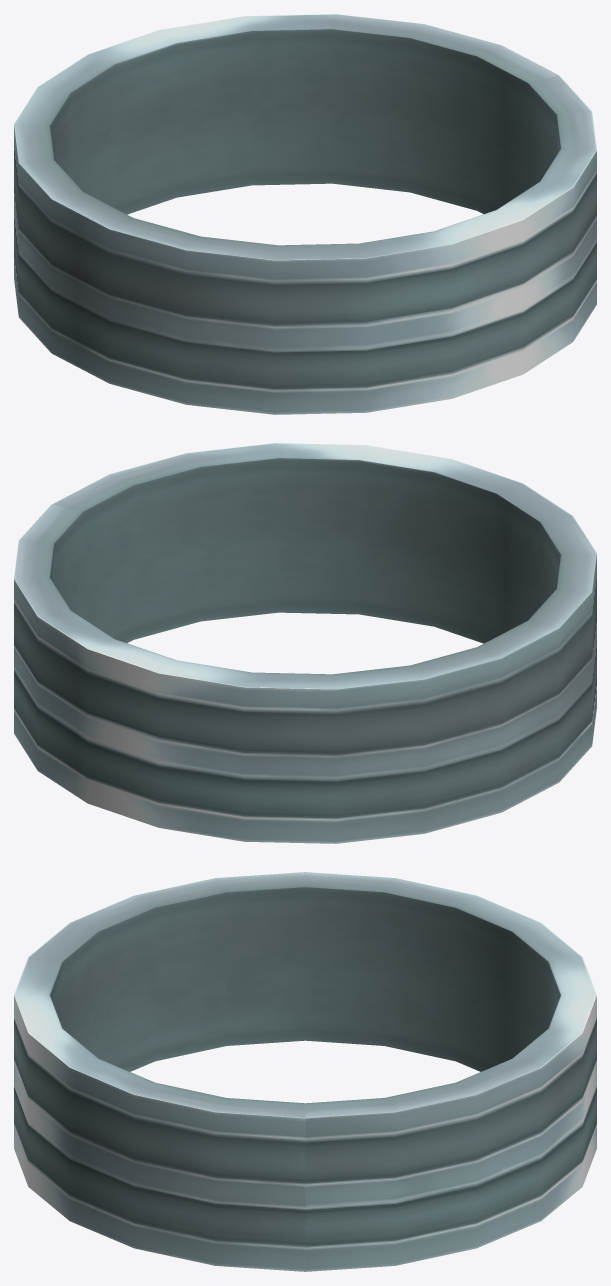
Rendered from ring_silver_15.fbx.
3 renders of one model, top to bottom at view 1: azimuth 30°, elevation 25°; view 2: azimuth 150°, elevation 25°; view 3: azimuth 270°, elevation 25°, orthographic.
Parts seen in each view (by area): view 1: ring_silver_15; view 2: ring_silver_15; view 3: ring_silver_15.
Boxes of the visible parts, left/top/right/bottom form: ring_silver_15: left=14, top=14, right=596, bottom=414; ring_silver_15: left=14, top=443, right=596, bottom=843; ring_silver_15: left=14, top=872, right=596, bottom=1271.
Size of the model in its own units: 2.04 by 0.594 by 2.04.
